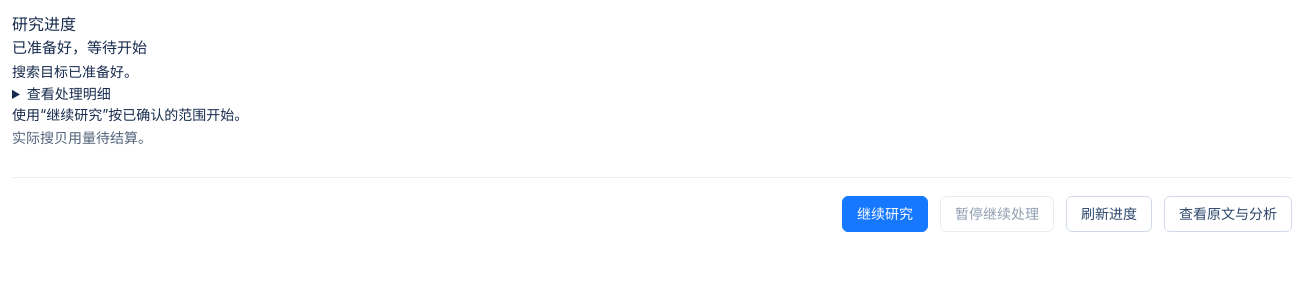
keeps the last confirmed progress visible when an advance and reconciliation both time out
Expected: the heading "已准备好，等待开始" is shown, [12, 38, 147, 57]
Click the button "继续研究" at (885, 214), box [842, 196, 928, 232]
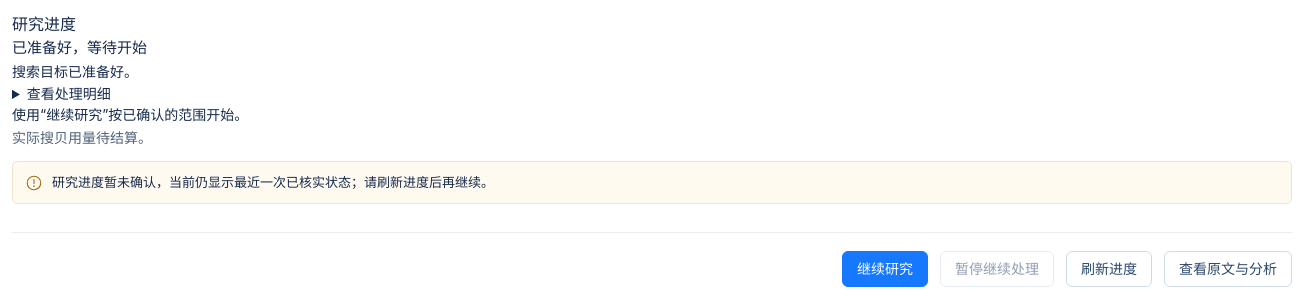
Expected: the heading "已准备好，等待开始" is shown, [12, 38, 147, 57]
Expected: the text "研究进度暂未确认，当前仍显示最近一次已核实状态；请刷新进度后再继续。" is shown, [52, 174, 494, 190]
